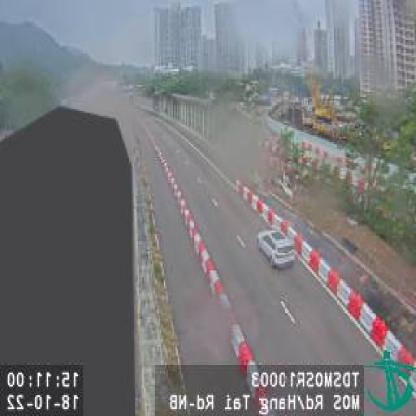Car: (256, 228, 294, 269)
